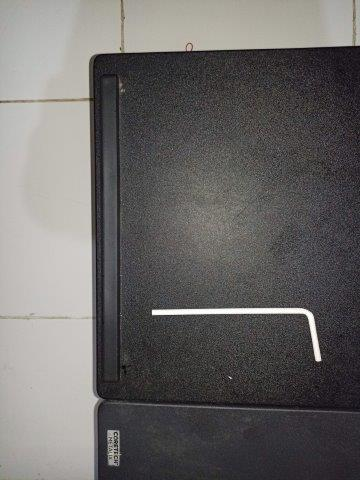sedotan: (153, 306, 322, 363)
